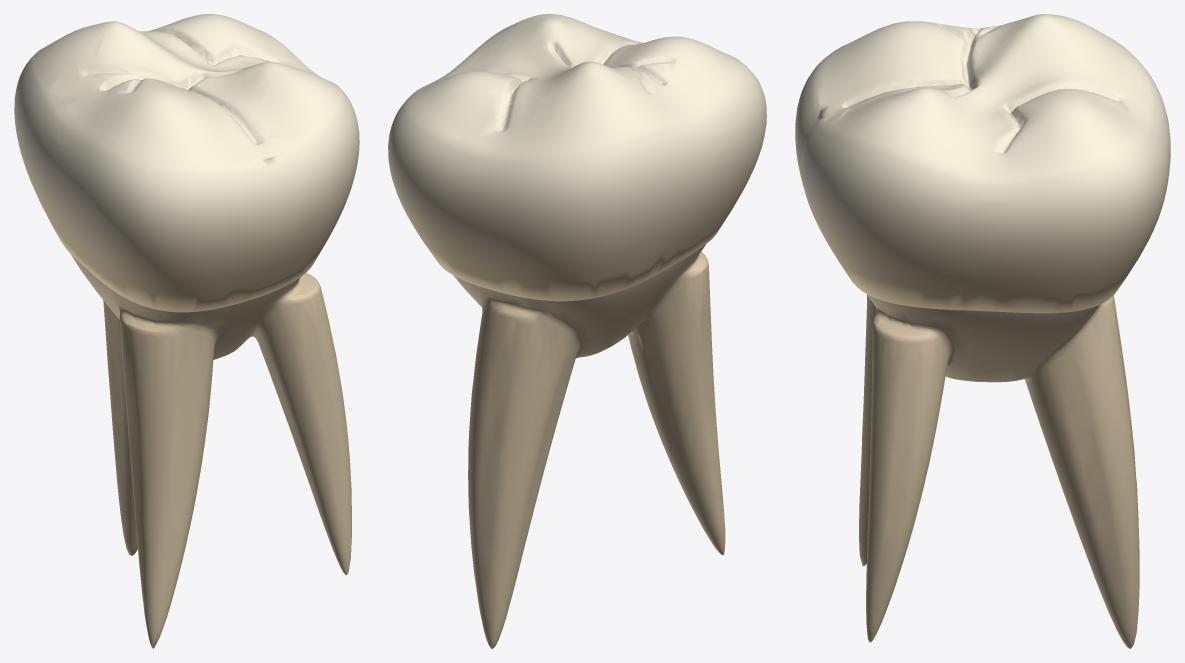
Rendered from molar_16_web.glb.
3 views of the same model, side by side, from view 1: azimuth 30°, elevation 25°; view 2: azimuth 150°, elevation 25°; view 3: azimuth 270°, elevation 25° (orthographic). The views are drawn at different scales.
Visible parts, largest first — view 1: FDI_16_Corona, FDI_16_Raices; view 2: FDI_16_Corona, FDI_16_Raices; view 3: FDI_16_Corona, FDI_16_Raices.
Boxes of the visible parts, x1,y1,x2,y2 form: FDI_16_Corona: (14, 14, 359, 312); FDI_16_Raices: (71, 254, 351, 648); FDI_16_Corona: (388, 14, 766, 301); FDI_16_Raices: (453, 244, 725, 648); FDI_16_Corona: (795, 14, 1170, 313); FDI_16_Raices: (859, 294, 1139, 648).
Bounding box in the file's own units: 0.0108 × 0.0209 × 0.0118.
